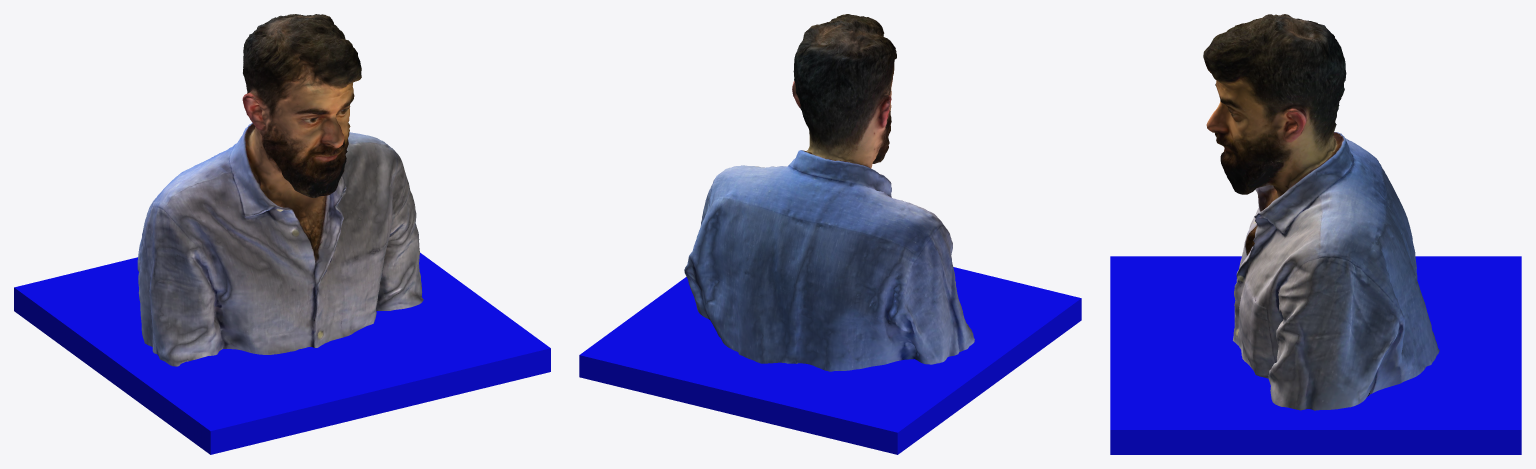
Rendered from busto emilio.gltf.
3 renders of one model, left to right at view 1: azimuth 30°, elevation 25°; view 2: azimuth 150°, elevation 25°; view 3: azimuth 270°, elevation 25°, orthographic. The views are drawn at different scales.
Parts seen in each view (by area): view 1: Cube; view 2: Cube; view 3: Cube.
Boxes of the visible parts, x1,y1,x2,y2 form: Cube: [14, 14, 550, 454]; Cube: [579, 14, 1081, 454]; Cube: [1110, 14, 1521, 454].
Size of the model in its own units: 0.6 by 0.5656 by 0.6.
Materials: 2 (1 with a texture image).
